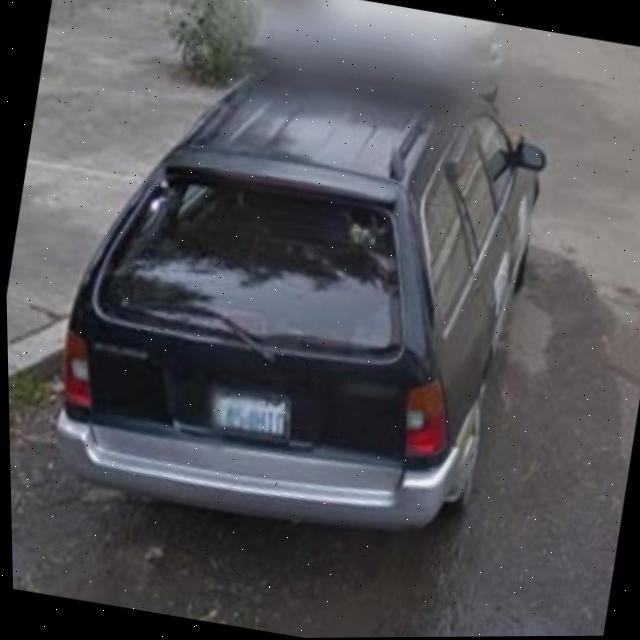vehicle: (46, 0, 542, 543)
